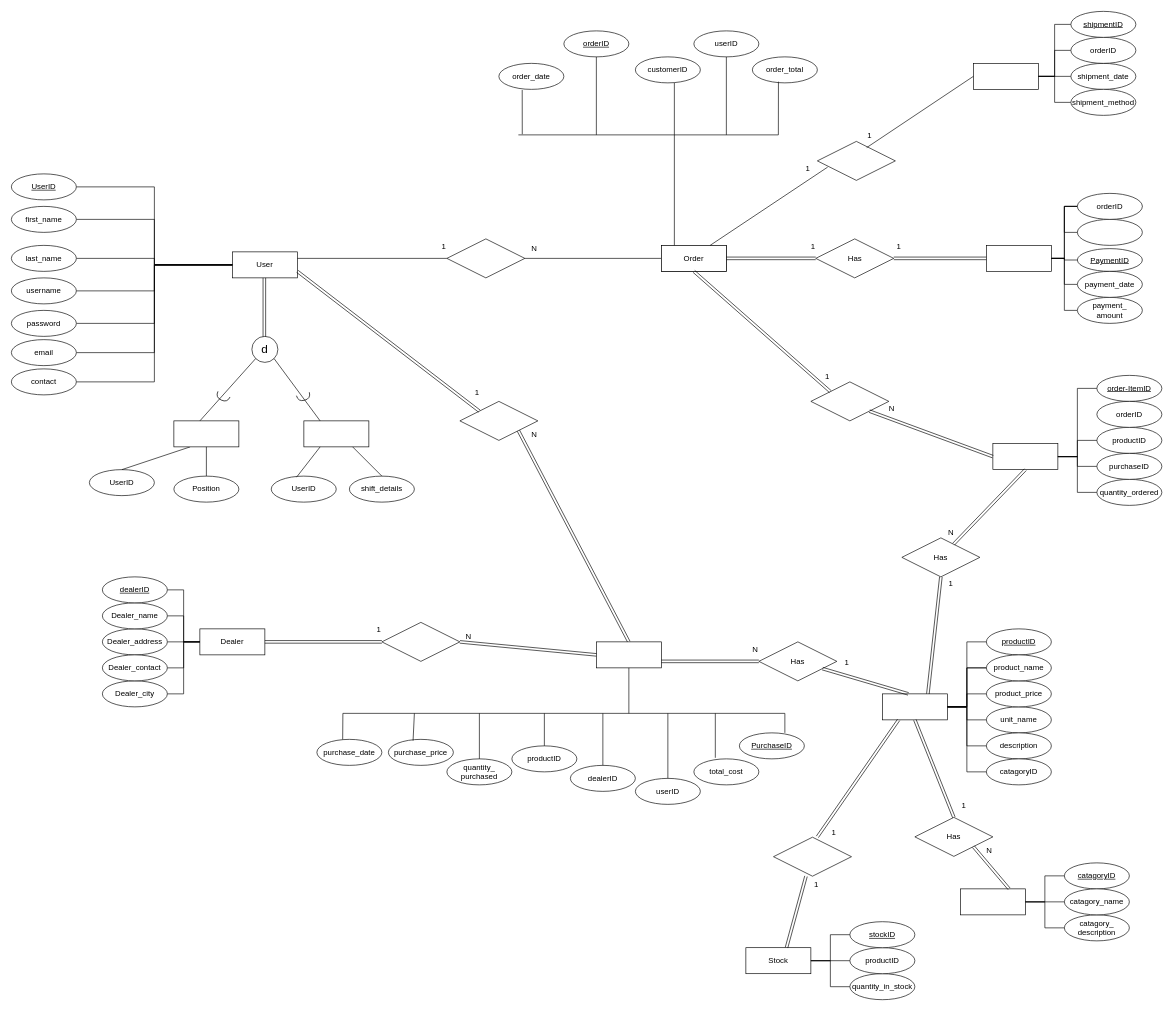
This 1173x1011 diagram has some shape labels left out. The centre of each missing label's shape, as x and y in pixels:
"Admin" goes at point 206,433.
"Cashier" goes at point 336,433.
"catagory" goes at point 992,901.
"Contains" goes at point 849,401.
"is in" goes at point 812,856.
"Made from" goes at point 420,641.
"Makes" goes at point 498,420.
"Order_Item" goes at point 1025,456.
"Payment" goes at point 1018,258.
"payment_ method" goes at point 1109,232.
"Places" goes at point 485,258.
"Product" goes at point 914,706.
"Purchase" goes at point 628,654.
"Shipment" goes at point 1005,76.
"Ships" goes at point 856,160.
